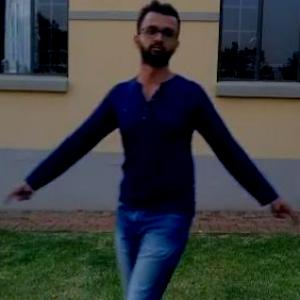land: (4, 0, 283, 299)
